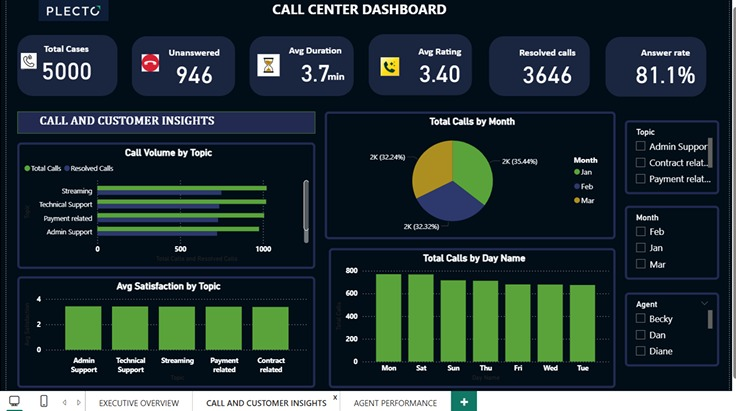

What the dashboard file says about the page in this screenshot:
{"tool":"powerbi","page":{"name":"CALL AND CUSTOMER INSIGHTS","canvas":[1280,720],"ordinal":1},"visuals":[{"type":"image","box":[48.9,10.7,139.5,47.7],"z":0},{"type":"shape","box":[19.1,77.5,177.6,108.5],"z":1000},{"type":"card","title":"Total Cases","fields":{"Values":["main.Total Calls"]},"box":[48.9,90.6,114.4,72.7],"z":2000},{"type":"image","box":[19.1,104.9,40.5,39.3],"z":3000},{"type":"shape","box":[854.7,79.9,178.8,106.1],"z":4000},{"type":"shape","box":[221.7,79.9,183.6,106.1],"z":5000},{"type":"shape","box":[430.3,79.9,184.8,106.1],"z":6000},{"type":"shape","box":[641.3,76.3,183.6,108.5],"z":7000},{"type":"card","title":"Unanswered","fields":{"Values":["main.Unanswered Calls"]},"box":[275.4,97.7,114.4,72.7],"z":8000},{"type":"card","title":"Avg Duration","fields":{"Values":["main.Avg Talk Duration"]},"box":[479.2,94.2,135.9,72.7],"z":9000},{"type":"card","title":"Avg Rating","fields":{"Values":["main.Avg Satisfaction"]},"box":[710.4,95.4,114.4,72.7],"z":10000},{"type":"textbox","box":[466.1,10.7,349.3,47.7],"z":11000},{"type":"image","box":[234.8,107.3,40.5,40.5],"z":12000},{"type":"image","box":[658,94.2,42.9,78.7],"z":13000},{"type":"image","box":[439.9,96.6,48.9,70.3],"z":14000},{"type":"card","title":"Resolved calls","fields":{"Values":["main.Resolved Calls"]},"box":[901.2,97.7,114.4,72.7],"z":15000},{"type":"shape","box":[1060.9,81.1,178.8,106.1],"z":16000},{"type":"card","title":"Answer rate","fields":{"Values":["main.Answer Rate"]},"box":[1095.5,97.7,144.2,72.7],"z":17000},{"type":"textbox","box":[563.8,134.7,51.3,34.6],"z":18000},{"type":"shape","box":[19.1,213.4,528.1,39.3],"z":19000},{"type":"textbox","box":[53.6,213.4,351.6,40.5],"z":20000},{"type":"columnChart","fields":{"Category":["main.Topic"],"Y":["main.Avg Satisfaction"]},"box":[19.1,505.4,528.1,197.9],"z":22000},{"type":"pieChart","fields":{"Y":["main.Total Calls"],"Category":["DateTable.Month"]},"box":[563.8,213.4,515,226.5],"z":23000},{"type":"clusteredColumnChart","fields":{"Y":["main.Total Calls"],"Category":["DateTable.Day Name"]},"box":[571,455.4,507.8,247.9],"z":24000},{"type":"slicer","fields":{"Values":["main.Topic"]},"box":[1095.5,228.9,166.9,131.1],"z":25000},{"type":"slicer","fields":{"Values":["DateTable.Month"]},"box":[1095.5,380.3,166.9,131.1],"z":26000},{"type":"slicer","fields":{"Values":["main.Agent"]},"box":[1095.5,534,166.9,131.1],"z":27000},{"type":"clusteredBarChart","title":"Call Volume by Topic","fields":{"Category":["main.Topic"],"Y":["main.Total Calls","main.Resolved Calls"]},"box":[19.1,268.2,528.1,224.1],"z":27001}]}

Visuals, with their boxes on the page's 1280x720 design canvas (x1, y1, x2, y2). These are canvas units, not pixel positions in the 736x411 screenshot, which may show the page scaled, cropped or inside an application window:
image: locate(49, 11, 188, 58)
shape: locate(19, 78, 197, 186)
"Total Cases" card: locate(49, 91, 163, 163)
image: locate(19, 105, 60, 144)
shape: locate(855, 80, 1034, 186)
shape: locate(222, 80, 405, 186)
shape: locate(430, 80, 615, 186)
shape: locate(641, 76, 825, 185)
"Unanswered" card: locate(275, 98, 390, 170)
"Avg Duration" card: locate(479, 94, 615, 167)
"Avg Rating" card: locate(710, 95, 825, 168)
textbox: locate(466, 11, 815, 58)
image: locate(235, 107, 275, 148)
image: locate(658, 94, 701, 173)
image: locate(440, 97, 489, 167)
"Resolved calls" card: locate(901, 98, 1016, 170)
shape: locate(1061, 81, 1240, 187)
"Answer rate" card: locate(1096, 98, 1240, 170)
textbox: locate(564, 135, 615, 169)
shape: locate(19, 213, 547, 253)
textbox: locate(54, 213, 405, 254)
columnChart - main.Topic x main.Avg Satisfaction: locate(19, 505, 547, 703)
pieChart - main.Total Calls x DateTable.Month: locate(564, 213, 1079, 440)
clusteredColumnChart - main.Total Calls x DateTable.Day Name: locate(571, 455, 1079, 703)
slicer - main.Topic: locate(1096, 229, 1262, 360)
slicer - DateTable.Month: locate(1096, 380, 1262, 511)
slicer - main.Agent: locate(1096, 534, 1262, 665)
"Call Volume by Topic" clusteredBarChart: locate(19, 268, 547, 492)
